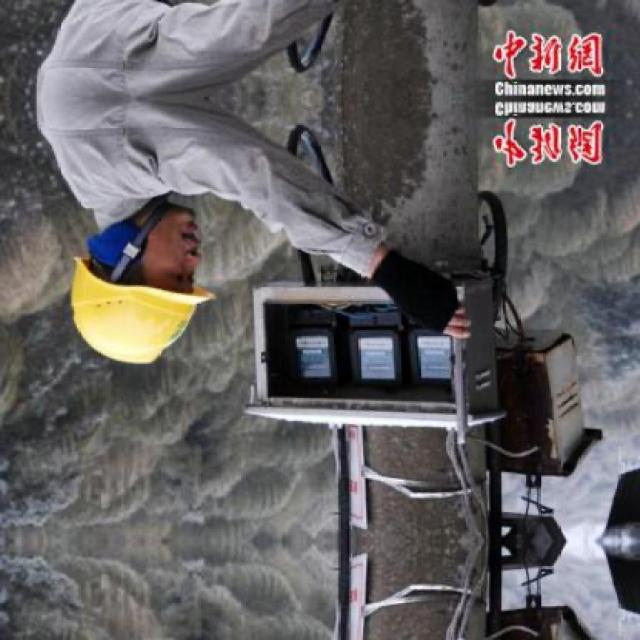con casco: (39, 151, 227, 364)
